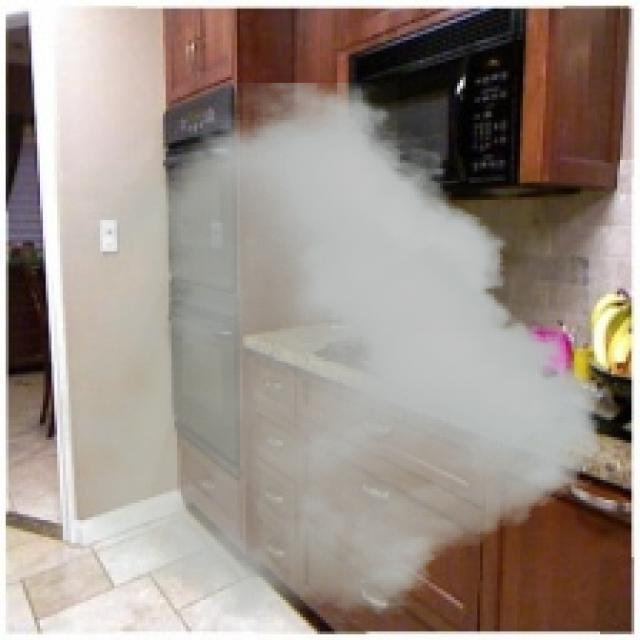Smoke: (57, 83, 600, 623)
